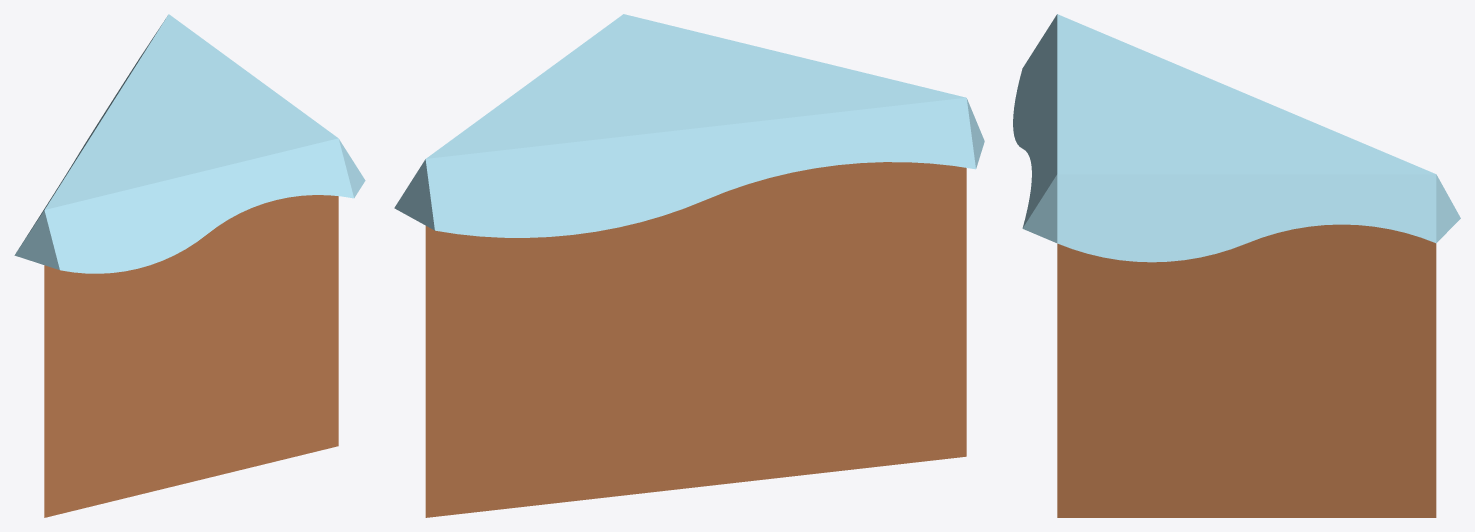
Rendered from blockSnowCornerLarge.dae.
The picture shows the model from 3 angles, left to right: view 1: azimuth 30°, elevation 25°; view 2: azimuth 150°, elevation 25°; view 3: azimuth 270°, elevation 25°; orthographic projection. The views are drawn at different scales.
Parts seen in each view (by area): view 1: blockSnowCornerLarge; view 2: blockSnowCornerLarge; view 3: blockSnowCornerLarge.
Boxes of the visible parts, left/top/right/bottom form: blockSnowCornerLarge: left=14, top=14, right=365, bottom=517; blockSnowCornerLarge: left=394, top=14, right=984, bottom=517; blockSnowCornerLarge: left=1013, top=14, right=1460, bottom=517.
Size of the model in its own units: 1.18 by 1 by 1.18.
